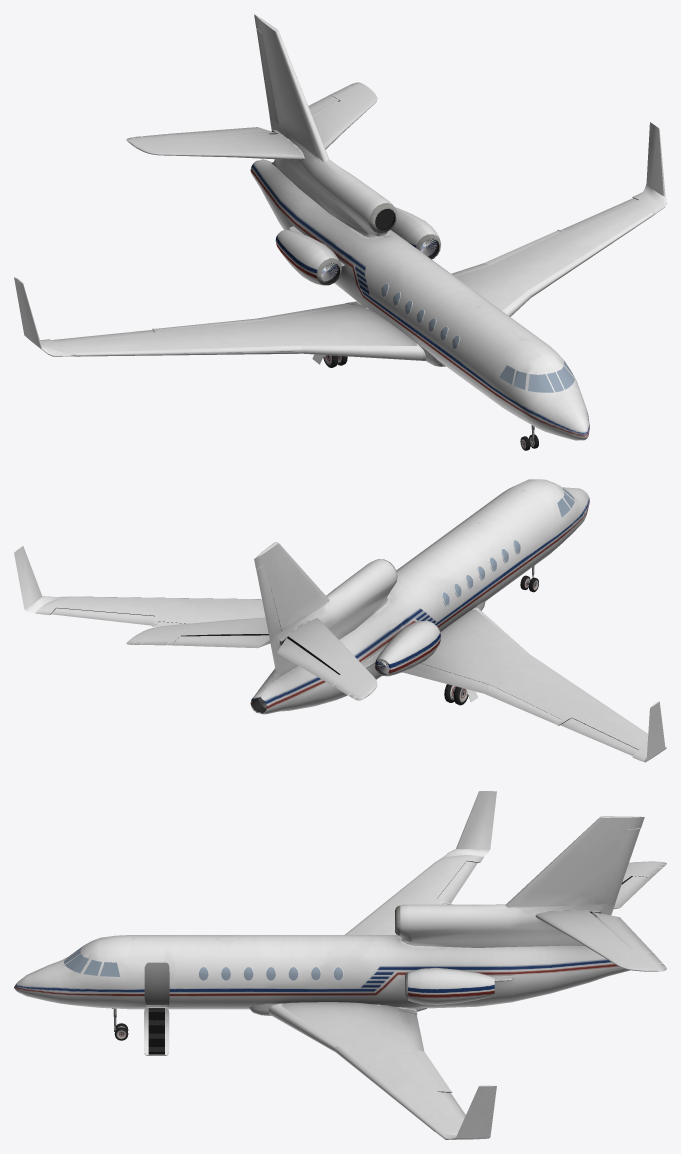
3 views of the same model, one above another, from view 1: azimuth 30°, elevation 25°; view 2: azimuth 150°, elevation 25°; view 3: azimuth 270°, elevation 25° (orthographic). The views are drawn at different scales.
Visible parts, largest first — view 1: fuselage.006, ailes.001, ailes2.001, moteurs.001, winglets.001, slatD2.001, slatD1.001, fuselage.008, slatG2.001, profondeurD.001, trous.001, intvitres.001 (+1 smaller); view 2: fuselage.006, ailes.001, ailes2.001, moteurs.001, winglets.001, profondeurG.001, profondeurD.001, voletD2.001, aileronG.001, direction.001, trous.001, aileronD.001 (+2 smaller); view 3: fuselage.006, ailes.001, ailes2.001, winglets.001, moteurs.001, direction.001, intporte.003, fuselage.007, intvitres.001, slatG1.001, fuselage.008, profondeurG.001 (+4 smaller).
Part boxes in pixels (x1,y1,x2,y2): fuselage.006: [254, 14, 589, 440]; ailes.001: [40, 192, 657, 366]; ailes2.001: [126, 82, 377, 160]; moteurs.001: [275, 207, 441, 285]; winglets.001: [14, 122, 666, 356]; slatD2.001: [75, 345, 303, 356]; slatD1.001: [301, 345, 422, 360]; fuselage.008: [499, 360, 574, 392]; slatG2.001: [529, 212, 653, 297]; profondeurD.001: [171, 127, 276, 139]; trous.001: [152, 96, 638, 366]; intvitres.001: [381, 283, 460, 349]; fuselage.006: [254, 479, 589, 712]; ailes.001: [35, 596, 648, 761]; ailes2.001: [126, 617, 377, 700]; moteurs.001: [375, 621, 441, 676]; winglets.001: [14, 546, 666, 762]; profondeurG.001: [171, 635, 270, 648]; profondeurD.001: [277, 638, 339, 683]; voletD2.001: [402, 663, 490, 693]; aileronG.001: [51, 608, 154, 625]; direction.001: [256, 565, 281, 638]; trous.001: [50, 608, 638, 749]; aileronD.001: [560, 718, 638, 755]; fuselage.006: [14, 816, 644, 1009]; ailes.001: [249, 855, 483, 1135]; ailes2.001: [535, 861, 666, 971]; winglets.001: [435, 791, 496, 1139]; moteurs.001: [405, 968, 494, 1004]; direction.001: [595, 829, 640, 904]; intporte.003: [144, 1007, 169, 1055]; fuselage.007: [144, 962, 169, 1006]; intvitres.001: [198, 966, 343, 981]; slatG1.001: [270, 1004, 339, 1051]; fuselage.008: [64, 946, 119, 976]; profondeurG.001: [592, 912, 651, 951].
Size of the model in its own units: 19.72 by 6.92 by 18.46.
